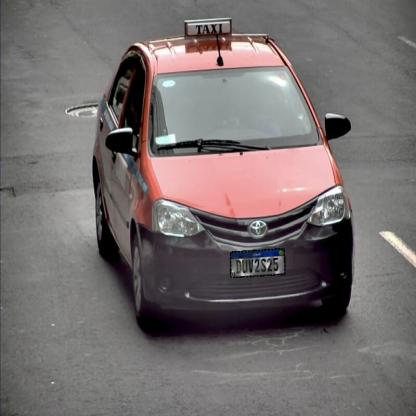PlacaM: (230, 248, 285, 278)
